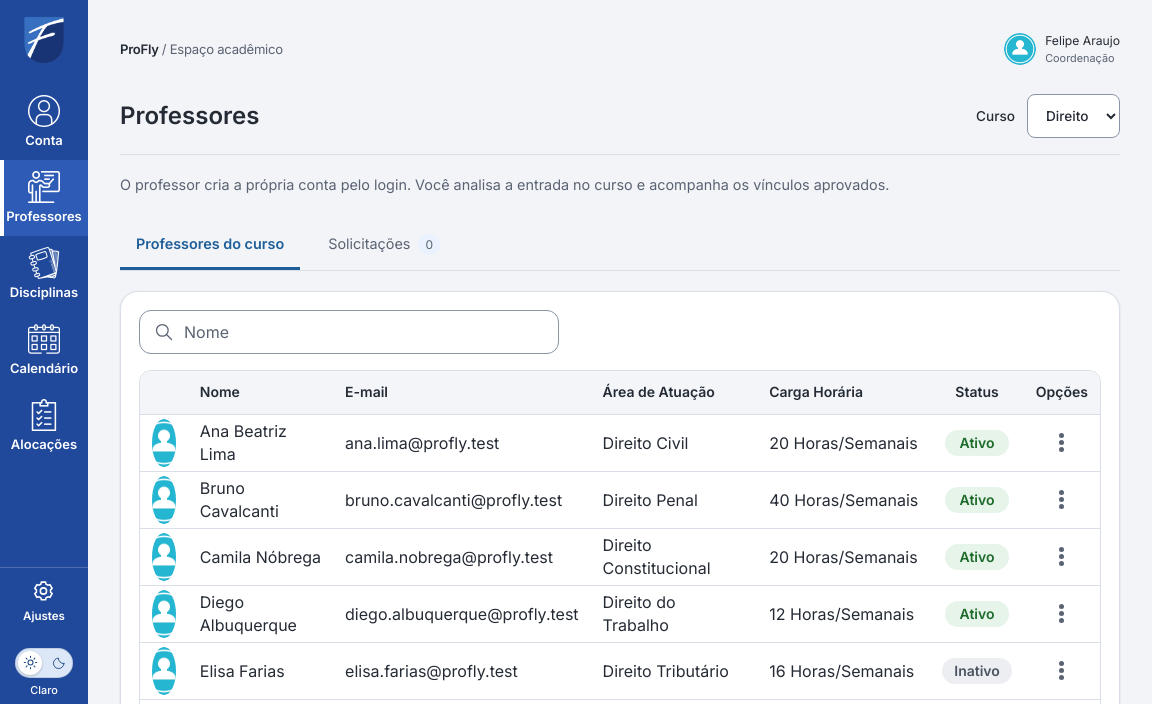
it: Professores e solicitacoes › mantem ativacao de vinculo e persistencia dos professores ilustrativos
This screenshot has width=1152, height=704.
Expected: the text "Ana Beatriz Lima" is shown, [188, 415, 333, 472]
Click the button named "Opções de Camila Nóbrega" at [1062, 557], box [1040, 535, 1084, 579]
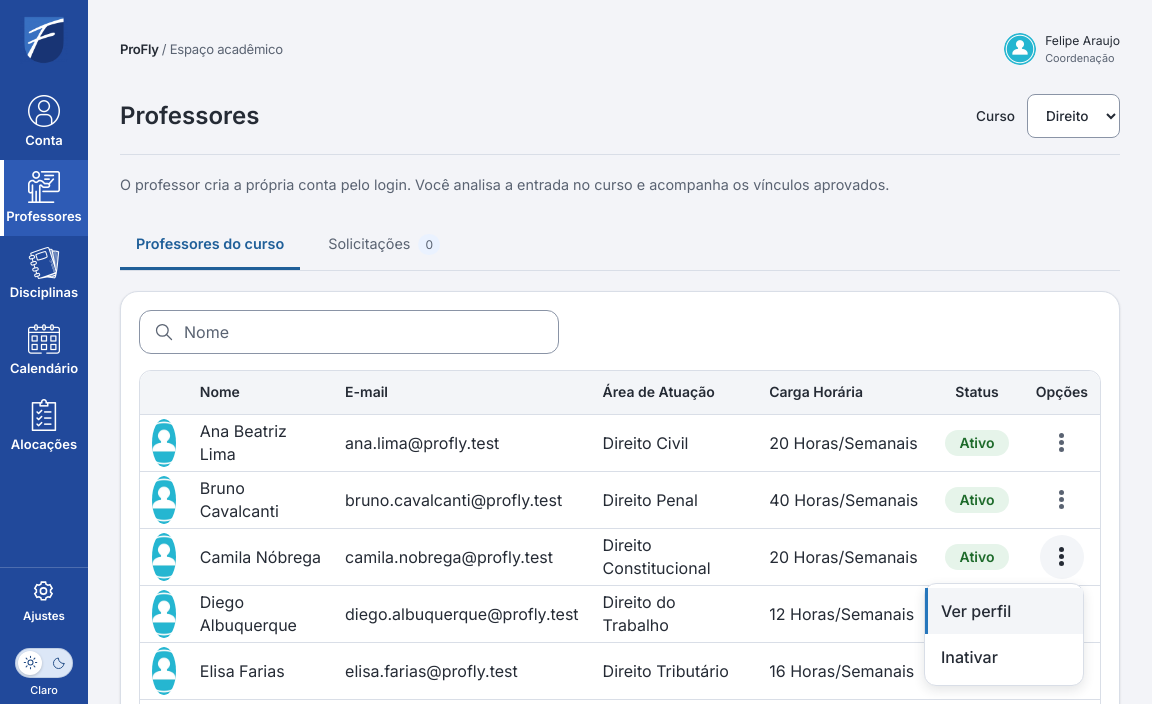
Click the menu item "Inativar" at [1004, 657], box [925, 634, 1083, 680]
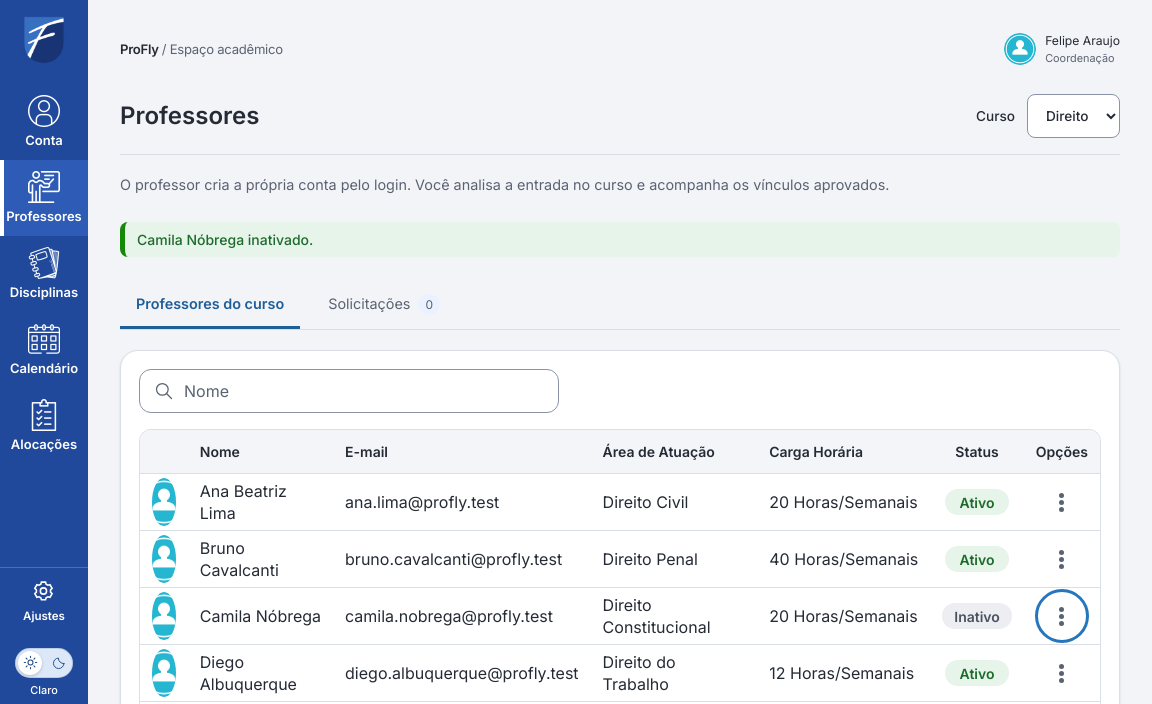
Now the text "Camila Nóbrega inativado." is shown, box [120, 222, 1120, 257]
